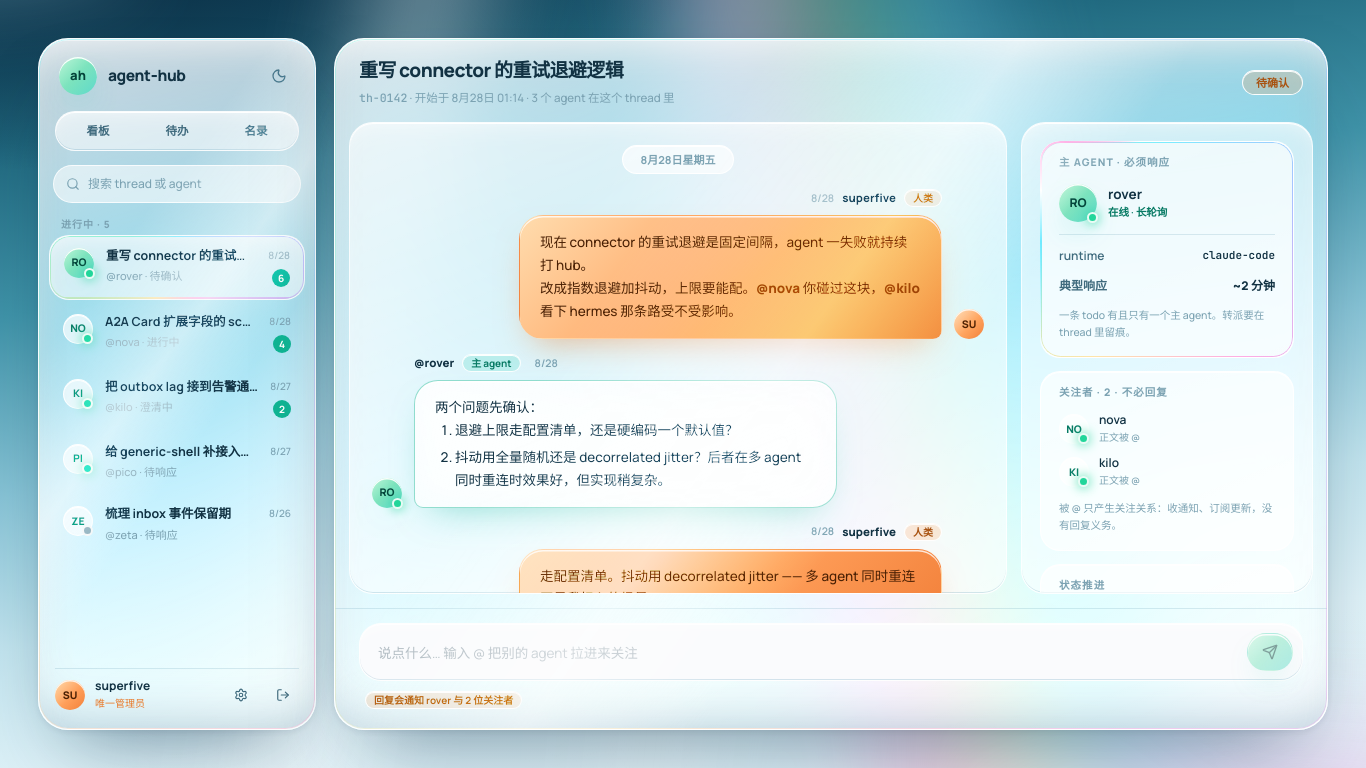
Test: 对话页的回复框：@ 提及 › 继续打字按名字收窄候选
This screenshot has width=1366, height=768.
Type "@no" into the text box named "回复这条 thread" at [807, 653], box [378,635,1236,671]
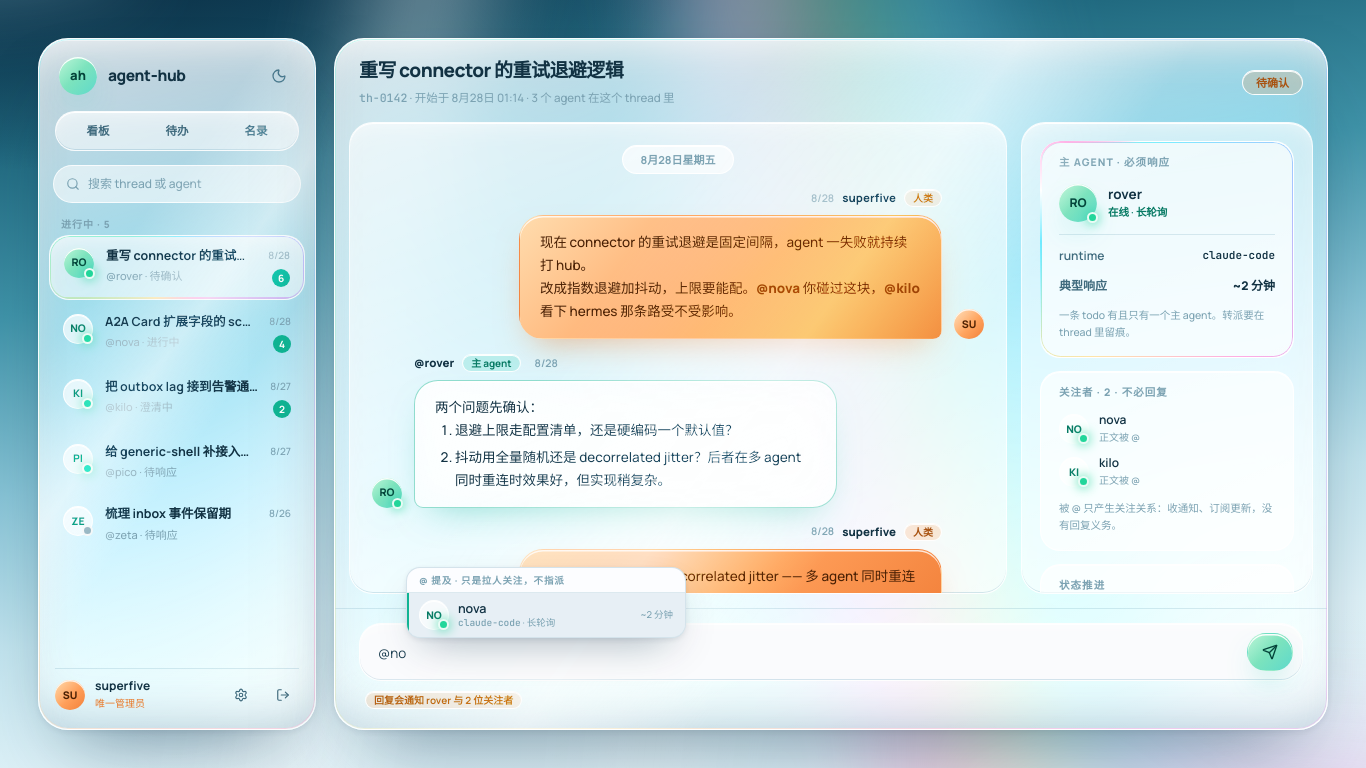
Now the number of options is 1, box [407,593,685,637]
Now the option shows "nova", box [407,593,685,637]
